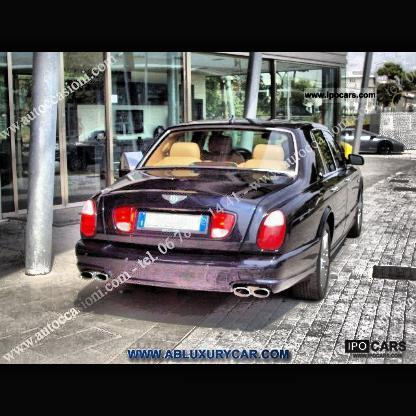Bentley Arnage Sedan 2009: (73, 115, 368, 305)
